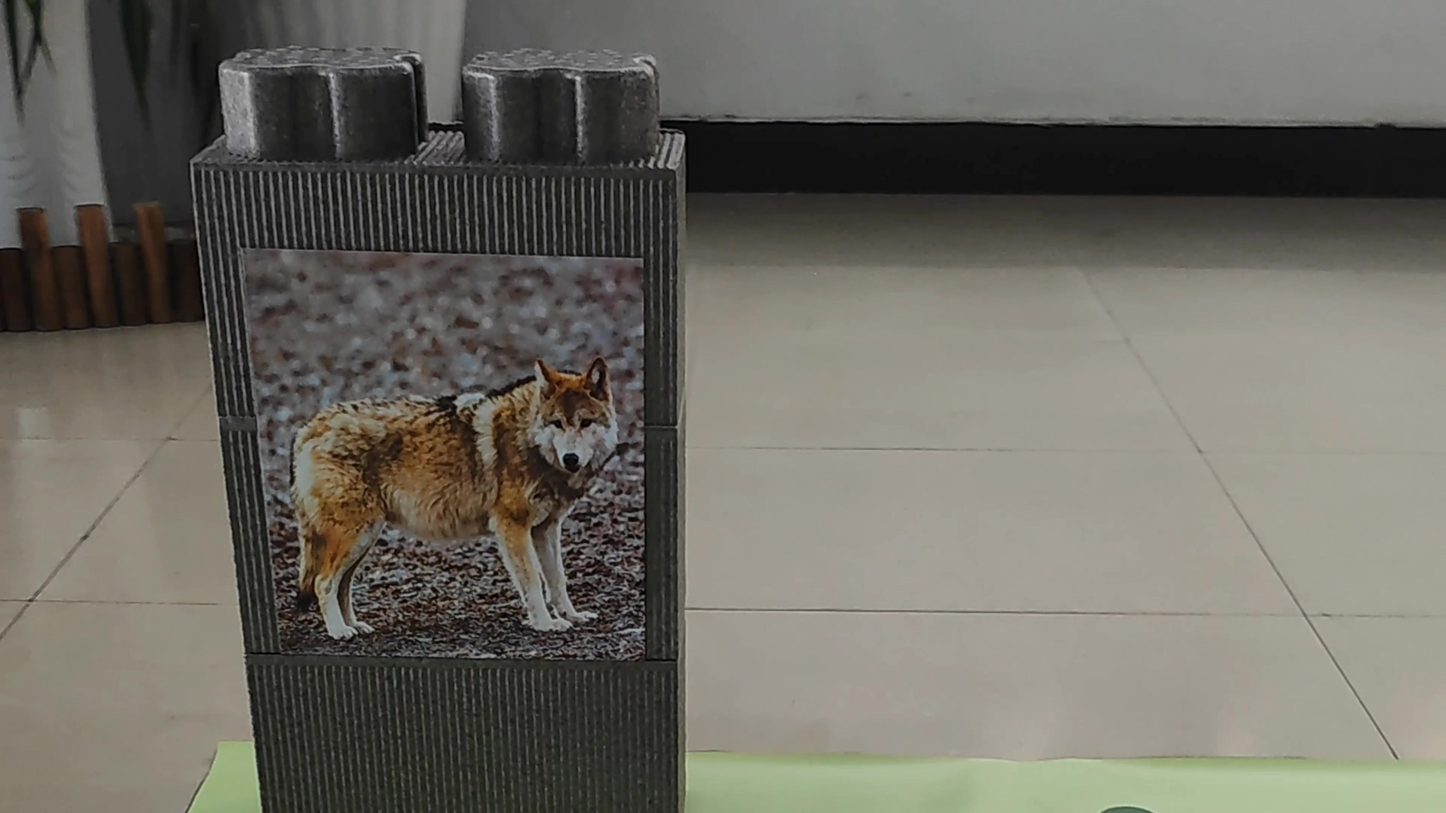wolf: (277, 320, 633, 648)
